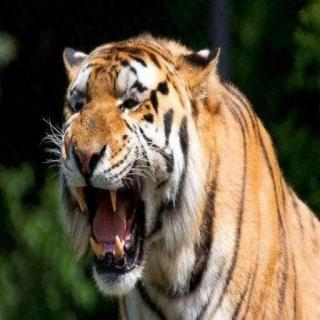Tiger: (43, 28, 320, 320)
